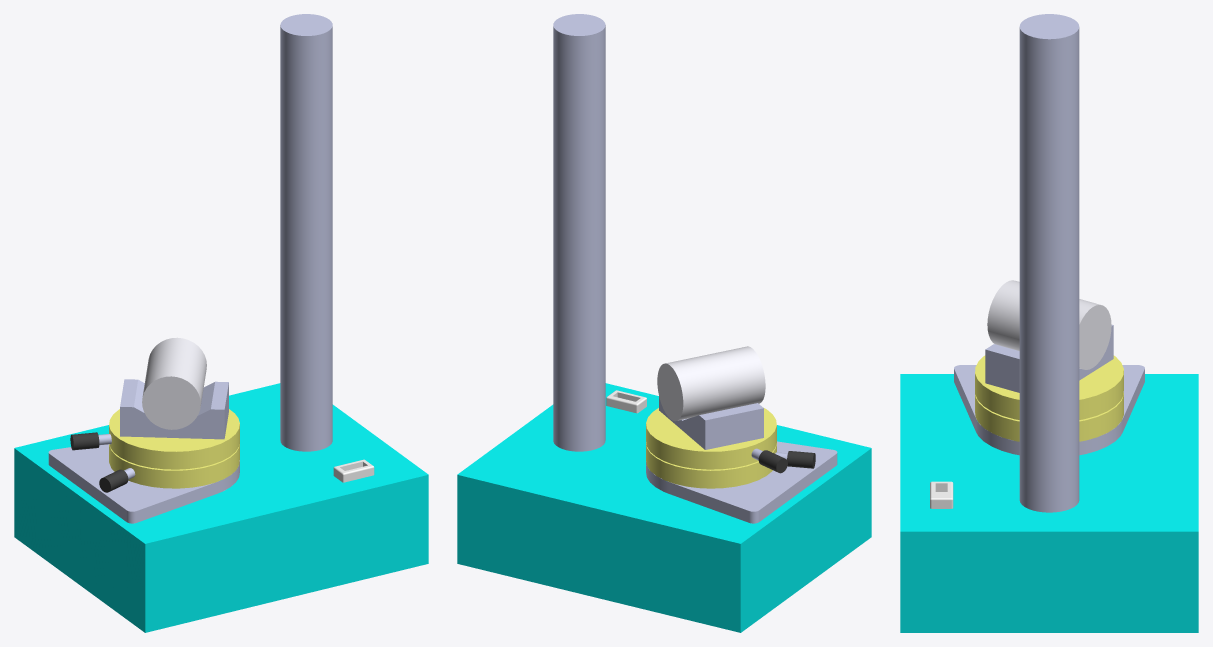
3 views of the same model, side by side, from view 1: azimuth 30°, elevation 25°; view 2: azimuth 150°, elevation 25°; view 3: azimuth 270°, elevation 25° (orthographic). The views are drawn at different scales.
Visible parts, largest first — view 1: NONE_DC_Shell, 2_DC_Shell, _1_DC_Shell; view 2: NONE_DC_Shell, 2_DC_Shell, _1_DC_Shell; view 3: NONE_DC_Shell, 2_DC_Shell, _1_DC_Shell.
Part boxes in pixels (bbox=[...]): NONE_DC_Shell: bbox=[14, 14, 428, 632]; 2_DC_Shell: bbox=[48, 444, 374, 523]; _1_DC_Shell: bbox=[120, 379, 228, 439]; NONE_DC_Shell: bbox=[457, 14, 871, 632]; 2_DC_Shell: bbox=[606, 390, 837, 523]; _1_DC_Shell: bbox=[659, 396, 763, 449]; NONE_DC_Shell: bbox=[900, 14, 1198, 632]; 2_DC_Shell: bbox=[930, 365, 1144, 508]; _1_DC_Shell: bbox=[985, 324, 1113, 392].
Size of the model in its own units: 250 by 425 by 200.
